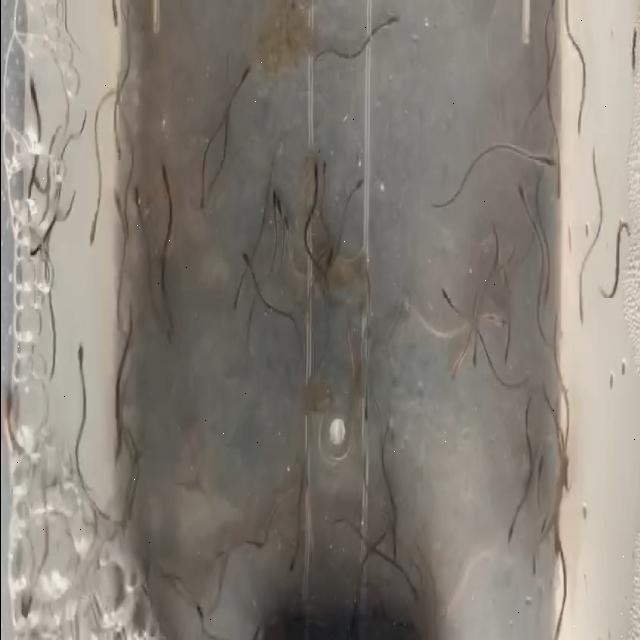active_glass_eel: (520, 52, 542, 97), (534, 326, 556, 370), (132, 194, 150, 242), (60, 226, 76, 280), (530, 224, 550, 266), (317, 24, 331, 82), (148, 167, 168, 206), (231, 284, 251, 322), (574, 298, 588, 352), (22, 73, 42, 109), (156, 210, 178, 242), (265, 200, 282, 240), (276, 464, 294, 500), (78, 166, 96, 202), (498, 118, 519, 148), (498, 334, 520, 362), (110, 372, 125, 412), (140, 469, 164, 494), (498, 299, 519, 327), (297, 169, 318, 197), (384, 516, 402, 548), (320, 148, 332, 194), (524, 391, 546, 416), (422, 290, 440, 320), (497, 564, 517, 590), (146, 322, 166, 348), (564, 14, 584, 40), (586, 113, 602, 145), (286, 492, 308, 514), (542, 108, 558, 138), (350, 168, 366, 198), (182, 140, 200, 166), (433, 284, 451, 310), (113, 64, 131, 88), (543, 27, 556, 59), (477, 566, 502, 582), (494, 190, 507, 220), (290, 312, 301, 346), (523, 182, 535, 212), (227, 86, 239, 116), (448, 360, 462, 384), (386, 13, 398, 40), (70, 344, 88, 362), (285, 202, 295, 234), (235, 262, 251, 280), (306, 366, 317, 391), (201, 150, 215, 168), (566, 314, 576, 338), (468, 347, 476, 375)
